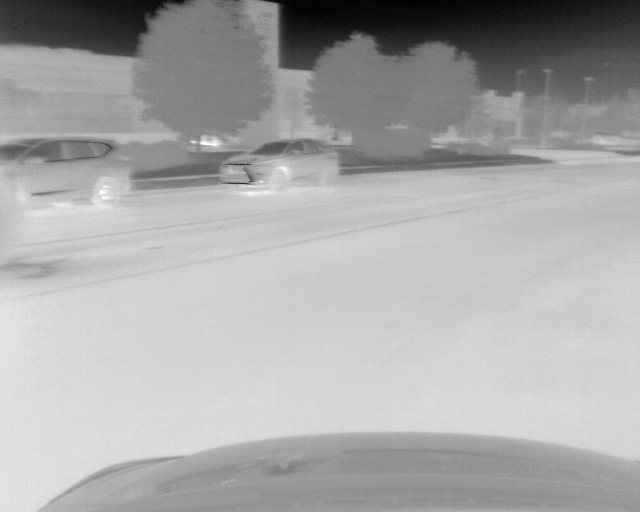car: (1, 136, 132, 209), (223, 137, 338, 191)
